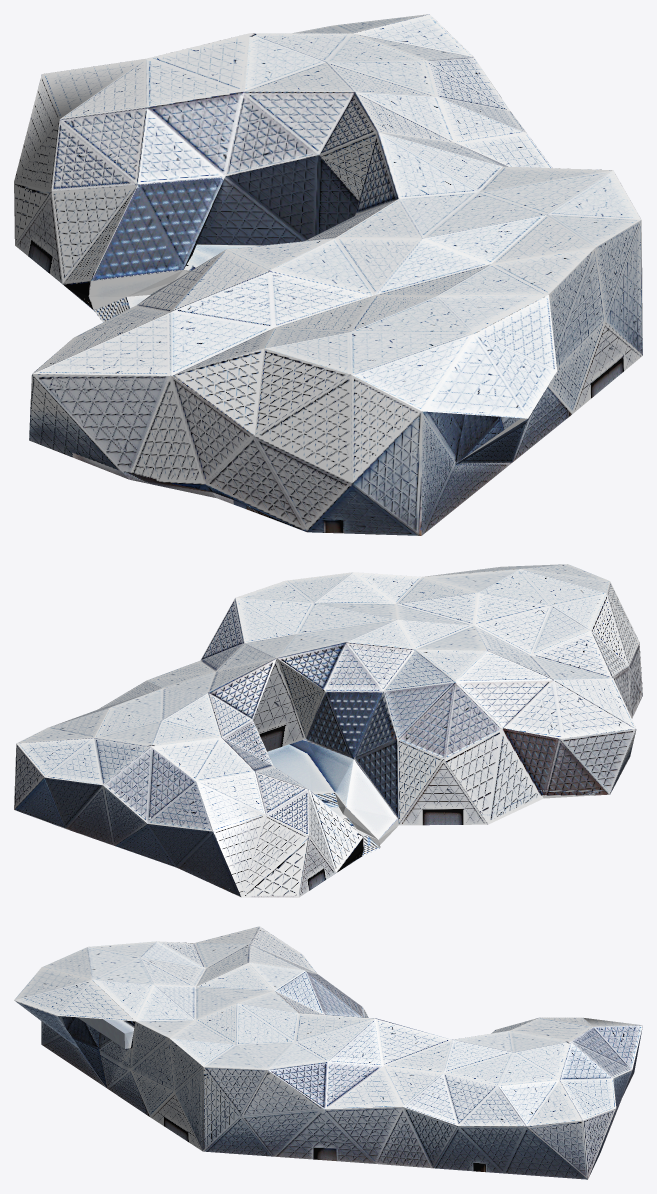
The picture shows the model from 3 angles, top to bottom: view 1: azimuth 30°, elevation 25°; view 2: azimuth 150°, elevation 25°; view 3: azimuth 270°, elevation 25°; orthographic projection. The views are drawn at different scales.
Visible parts, largest first — view 1: a01; view 2: a01; view 3: a01.
Part boxes in pixels (bbox=[...]): a01: bbox=[14, 14, 642, 535]; a01: bbox=[14, 564, 642, 897]; a01: bbox=[14, 926, 642, 1179].
Bounding box in the file's own units: 113 × 30.71 × 151.
1 material, 1 textured.
